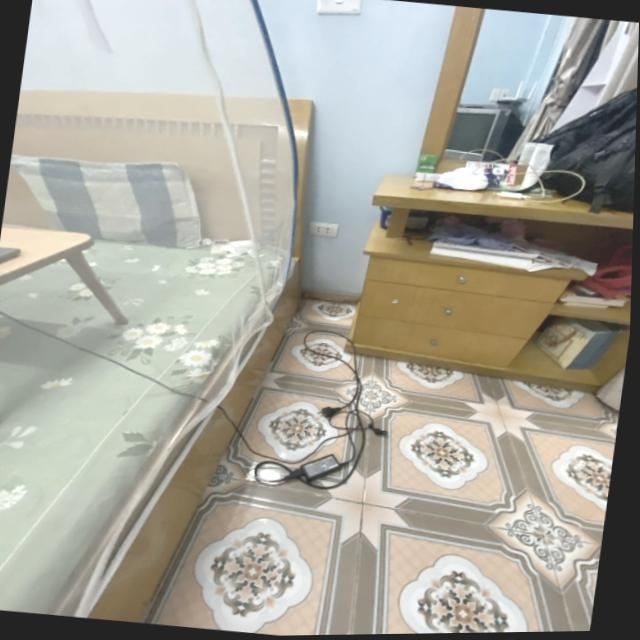outlet: (307, 220, 339, 238)
